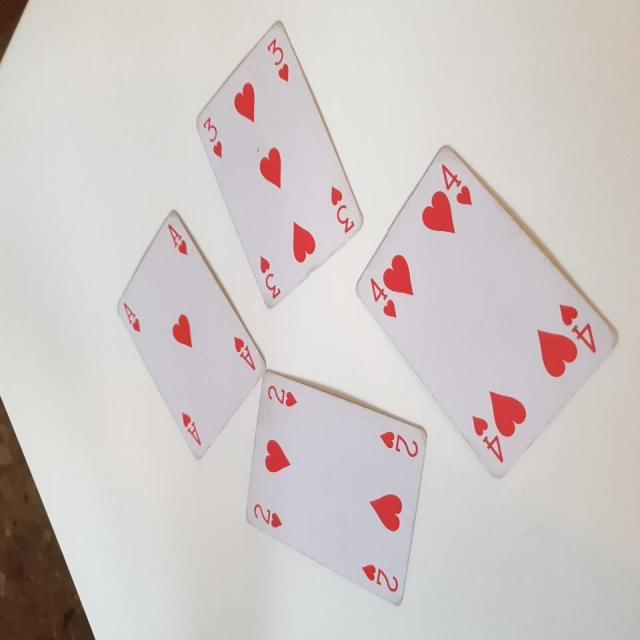2 of hearts: (240, 370, 430, 606)
3 of hearts: (192, 11, 366, 310)
4 of hearts: (342, 137, 622, 492)
ace of hearts: (115, 207, 266, 464)
